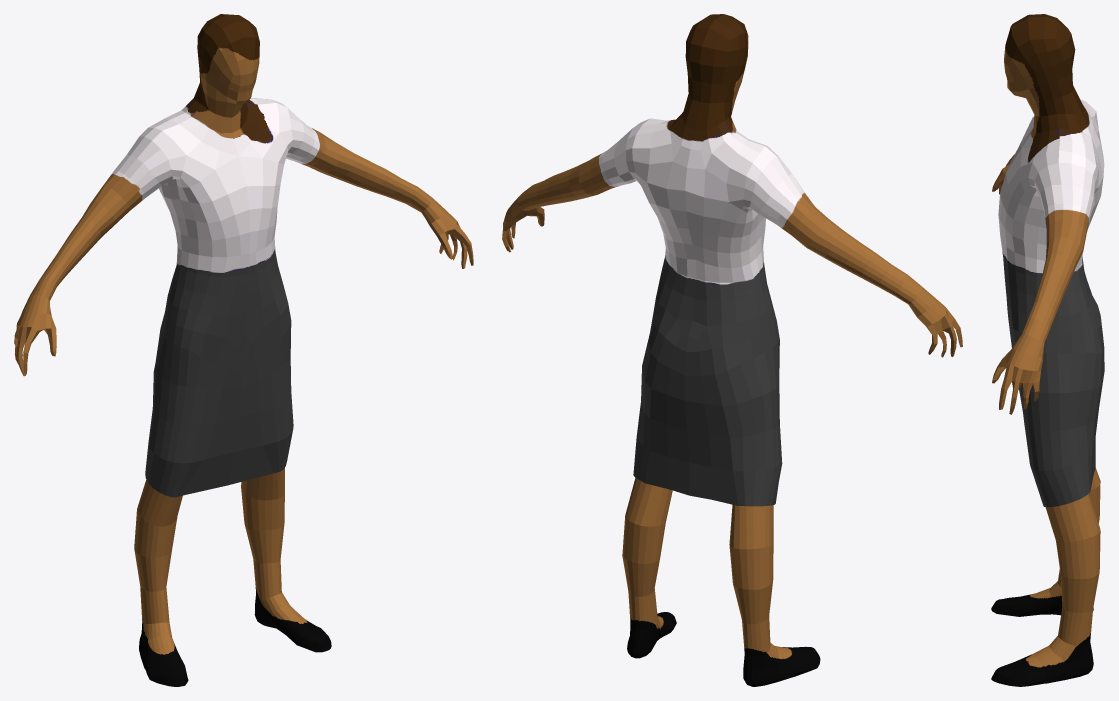
Rendered from SM_FemaleNPC3.fbx.
3 views of the same model, side by side, from view 1: azimuth 30°, elevation 25°; view 2: azimuth 150°, elevation 25°; view 3: azimuth 270°, elevation 25° (orthographic).
Visible parts, largest first — view 1: LowpolyWoman; view 2: LowpolyWoman; view 3: LowpolyWoman.
Boxes of the visible parts, x1=… form: LowpolyWoman: x1=14, y1=14, x2=473, y2=686; LowpolyWoman: x1=502, y1=14, x2=962, y2=686; LowpolyWoman: x1=991, y1=14, x2=1104, y2=686.
Size of the model in its own units: 800 by 1083 by 177.
1 material, 1 textured.
